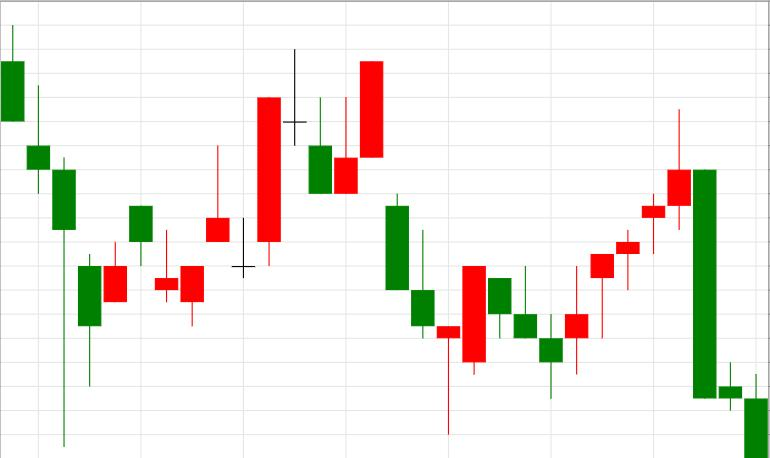shooting_star_fall: (566, 109, 691, 375)
